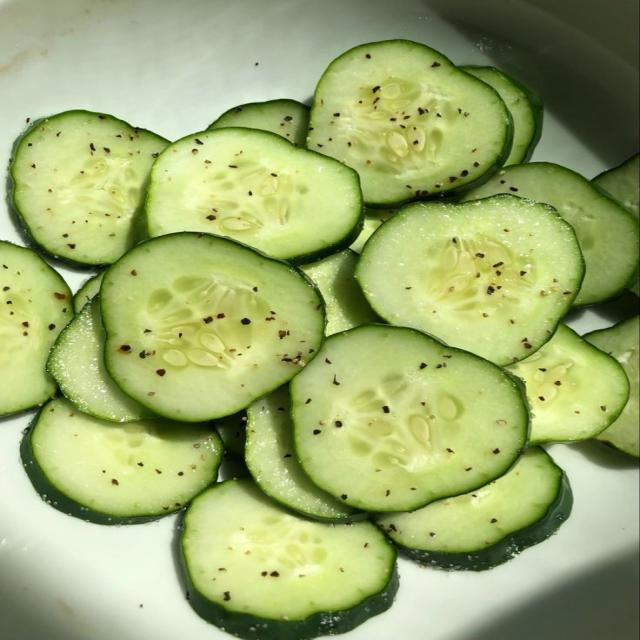cucumber sliced: (291, 325, 528, 511), (100, 232, 324, 421), (356, 195, 583, 365), (181, 478, 398, 639), (307, 40, 511, 206), (146, 128, 361, 260), (21, 398, 221, 524), (463, 163, 639, 305), (10, 110, 167, 265), (376, 447, 573, 570), (245, 386, 357, 520), (507, 324, 629, 443), (47, 298, 154, 421), (0, 241, 73, 415), (460, 66, 543, 165), (584, 316, 639, 456), (300, 249, 379, 335), (208, 99, 309, 147), (592, 154, 639, 219), (592, 154, 639, 218), (350, 208, 396, 253), (213, 410, 246, 458), (74, 271, 104, 313)
